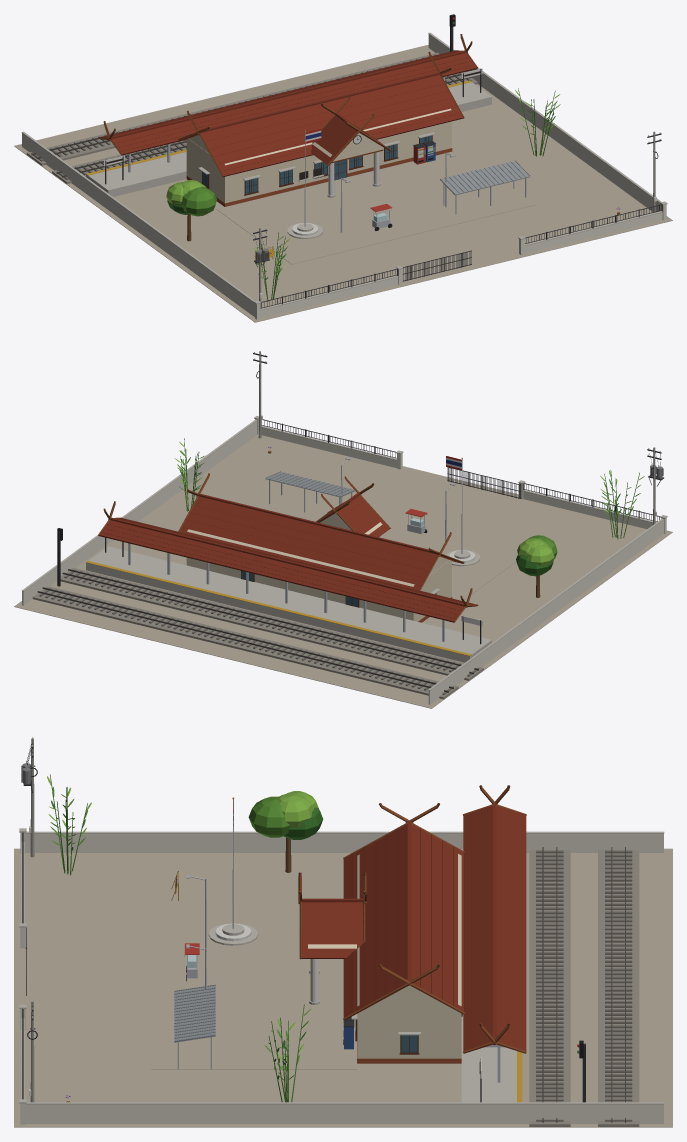
The model's file is station.glb.
3 views of the same model, one above another, from view 1: azimuth 30°, elevation 25°; view 2: azimuth 150°, elevation 25°; view 3: azimuth 270°, elevation 25° (orthographic). The views are drawn at different scales.
Visible parts, largest first — view 1: body, windows; view 2: body; view 3: body.
Part boxes in pixels (x1,y1,x2,y2): body: [14, 14, 672, 322]; windows: [202, 17, 454, 193]; body: [14, 351, 672, 708]; body: [14, 737, 672, 1127].
Bounding box in the file's own units: 47.9 × 11.28 × 47.9.
